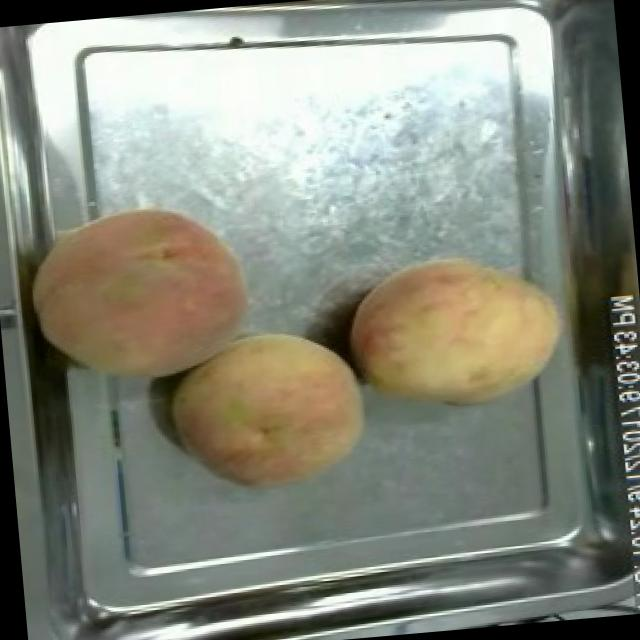Fruit: (16, 186, 262, 399), (334, 237, 572, 424), (162, 314, 382, 503)
